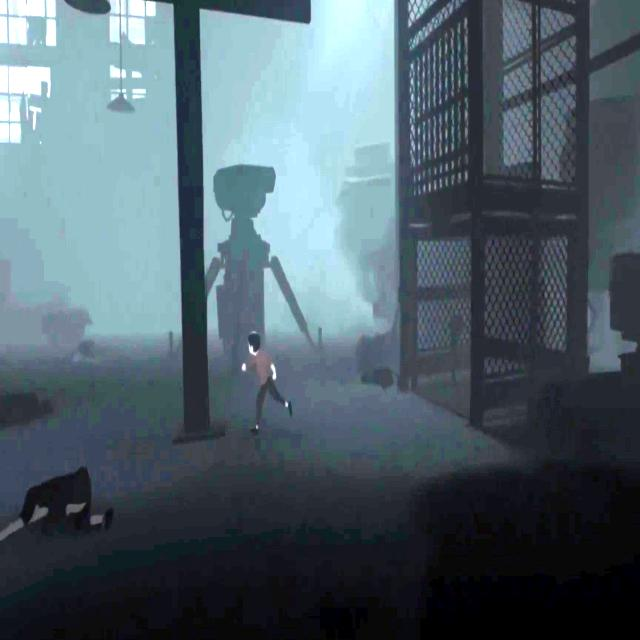boy: (244, 332, 289, 434)
zombie: (8, 470, 114, 543)
